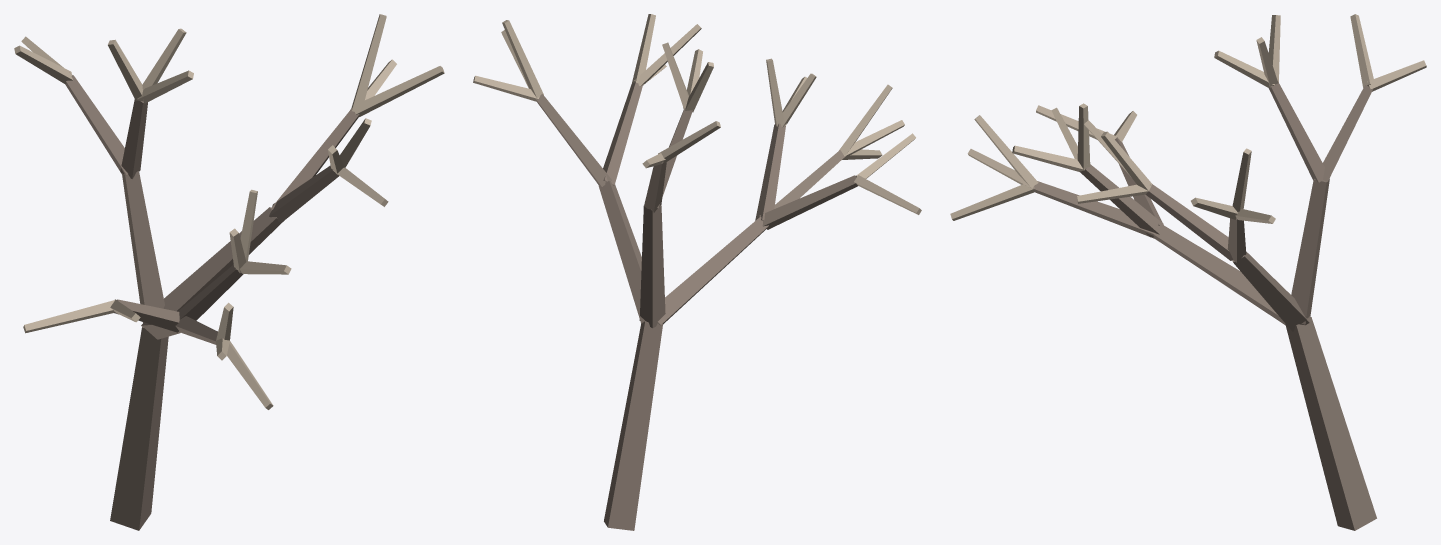
The model's file is bush_dead_a.glb.
3 views of the same model, side by side, from view 1: azimuth 30°, elevation 25°; view 2: azimuth 150°, elevation 25°; view 3: azimuth 270°, elevation 25° (orthographic). The views are drawn at different scales.
Visible parts, largest first — view 1: BushDeadA; view 2: BushDeadA; view 3: BushDeadA.
Part boxes in pixels (x1,y1,x2,y2): BushDeadA: (14,14,444,530); BushDeadA: (473,14,921,530); BushDeadA: (950,14,1426,530).
Bounding box in the file's own units: 1.21 × 1.36 × 1.2.
